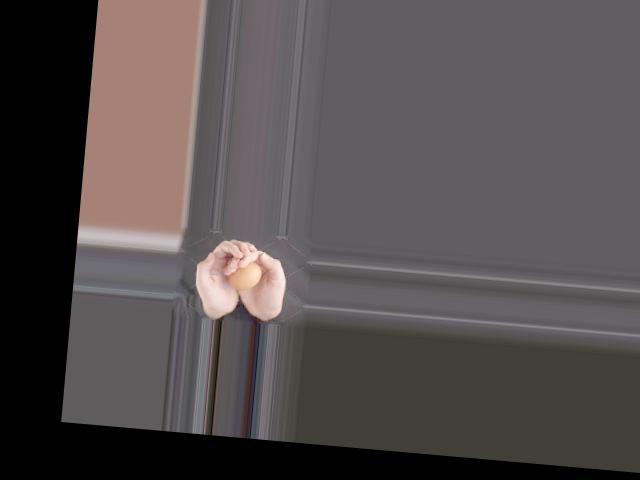egg: (225, 260, 262, 291)
